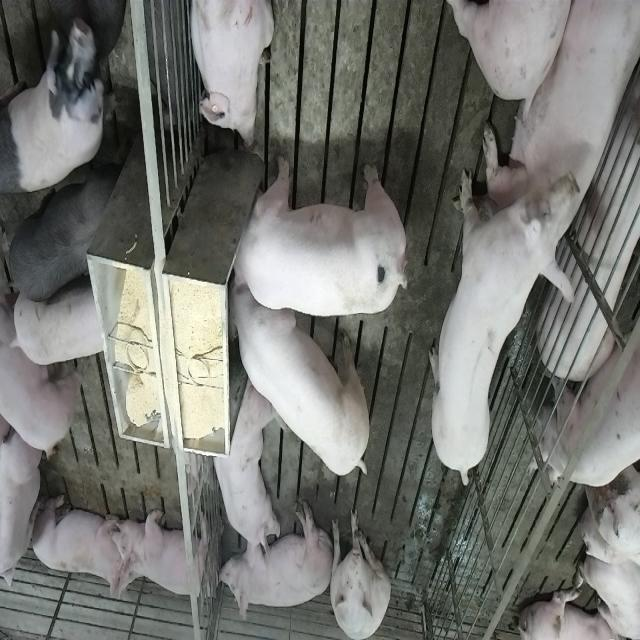Feeding: (228, 276, 375, 480), (231, 156, 413, 319)
Lateral_lying: (218, 498, 334, 624)
Sitting: (328, 506, 390, 638)
Standing: (428, 151, 582, 481), (540, 292, 640, 485), (2, 152, 124, 303), (4, 32, 110, 197), (2, 294, 84, 464), (10, 282, 109, 366)
Sternal_lying: (490, 5, 640, 272), (188, 0, 274, 150), (207, 380, 275, 569), (28, 490, 130, 598), (114, 502, 218, 604)
